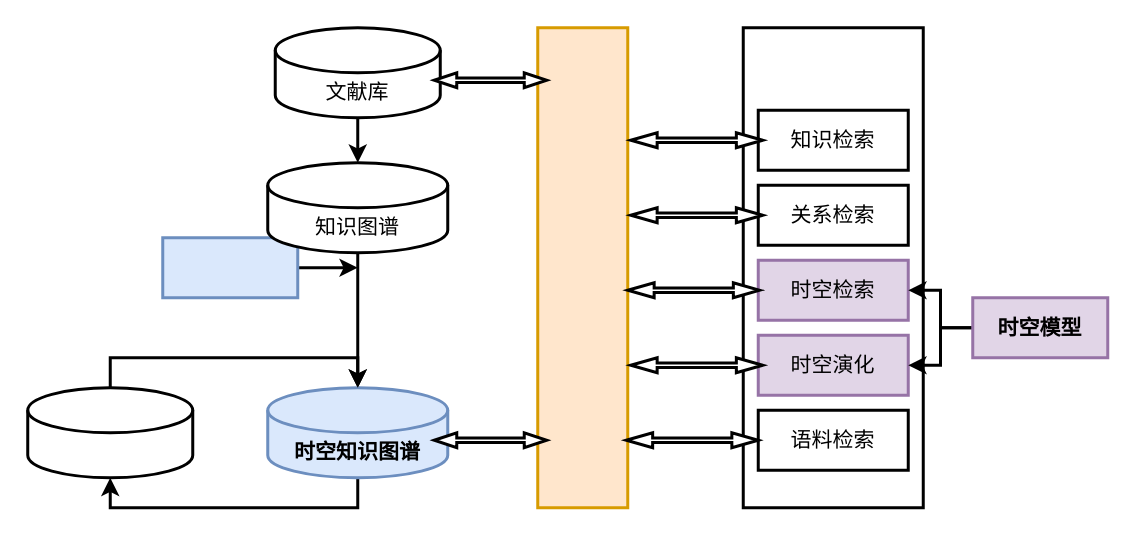
The diagram is 1134 pixels wide and 546 high, and some of its shapes have lost their labels. The shapes that lost their labels are listed below. From the top down, each one's box as (x1, y1, x2, y2) in pixels, then its label:
(160, 236, 298, 298): 时空知识链表
(536, 26, 628, 508): 双 层 检 索 模 型
(741, 26, 924, 508): 知识服务
(26, 386, 194, 478): 网络资源
